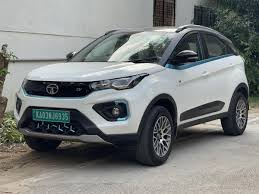Tata Nexon: (11, 23, 250, 167)
